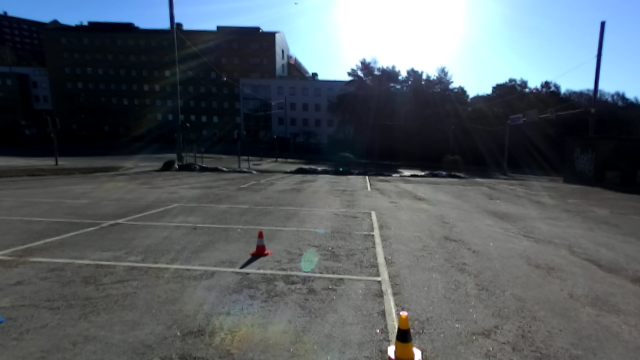orange: (249, 230, 272, 258)
yellow: (386, 306, 422, 360)
